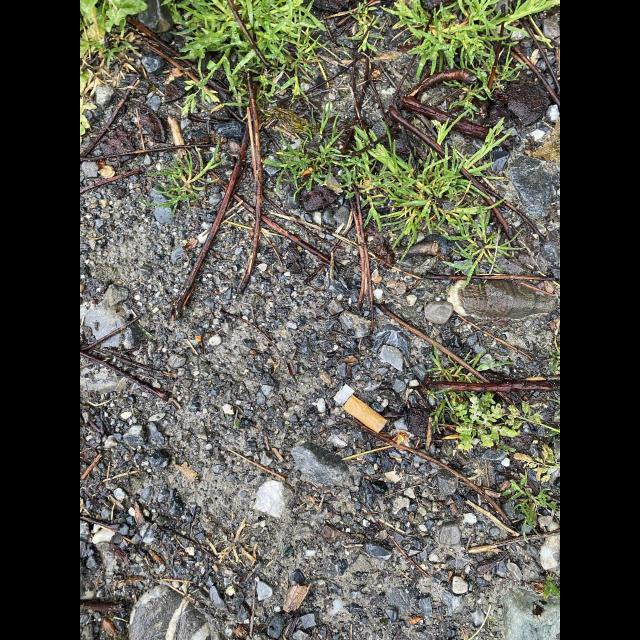cigarette: (333, 384, 388, 434)
